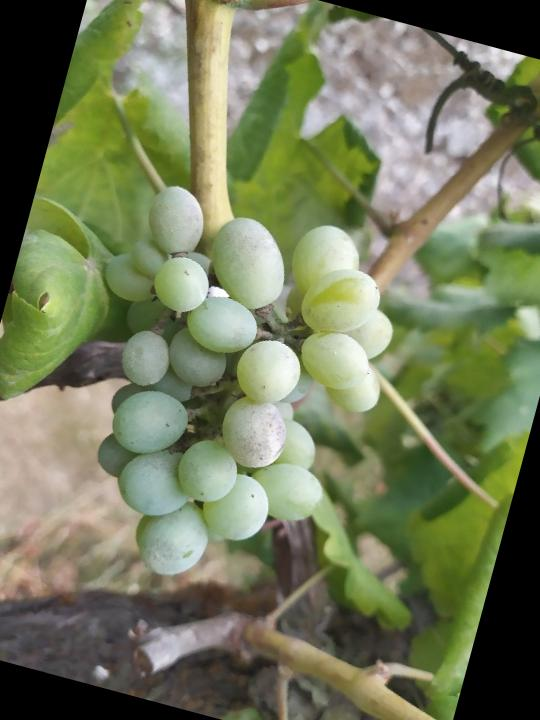grape: (27, 168, 423, 622)
